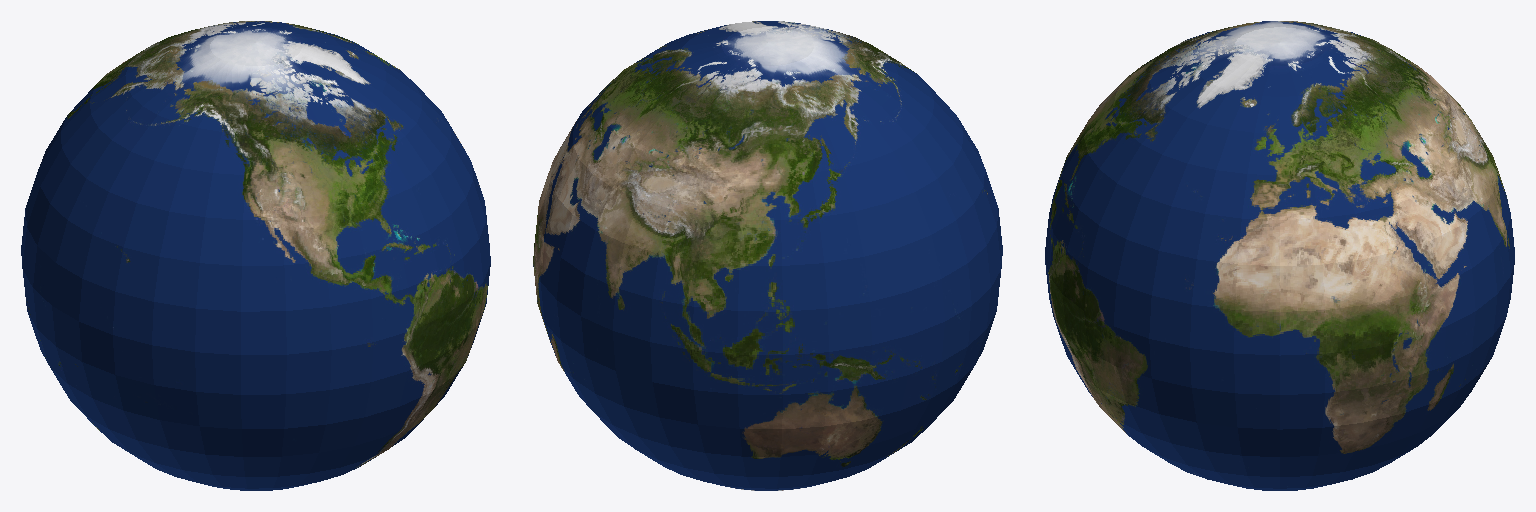
3 renders of one model, left to right at view 1: azimuth 30°, elevation 25°; view 2: azimuth 150°, elevation 25°; view 3: azimuth 270°, elevation 25°, orthographic.
Parts seen in each view (by area): view 1: Sphere; view 2: Sphere; view 3: Sphere.
Boxes of the visible parts, x1,y1,x2,y2 form: Sphere: [21, 21, 490, 490]; Sphere: [533, 21, 1002, 490]; Sphere: [1045, 21, 1514, 490].
Size of the model in its own units: 2 by 2 by 2.
Materials: 1 (1 with a texture image).